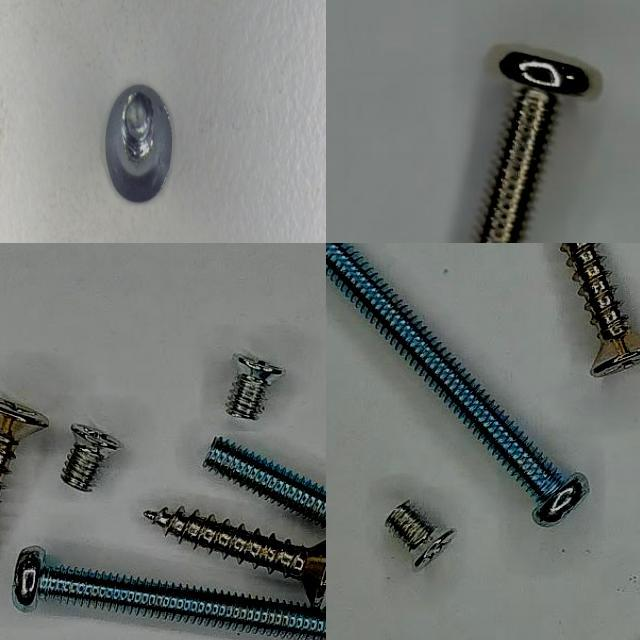Screw: (326, 243, 587, 527), (12, 547, 326, 640), (480, 53, 589, 243), (145, 507, 326, 606), (561, 243, 640, 377), (206, 439, 326, 526), (106, 83, 172, 200), (385, 502, 456, 571), (0, 397, 49, 494), (62, 423, 123, 491), (227, 350, 284, 420), (434, 370, 437, 377)
